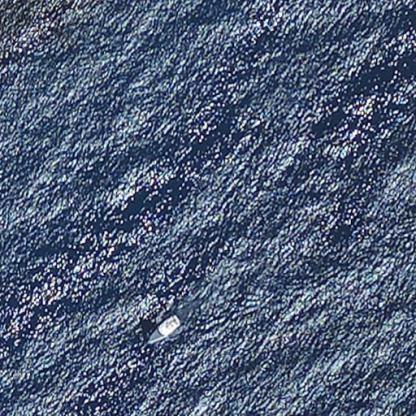ship: (143, 312, 181, 345)
